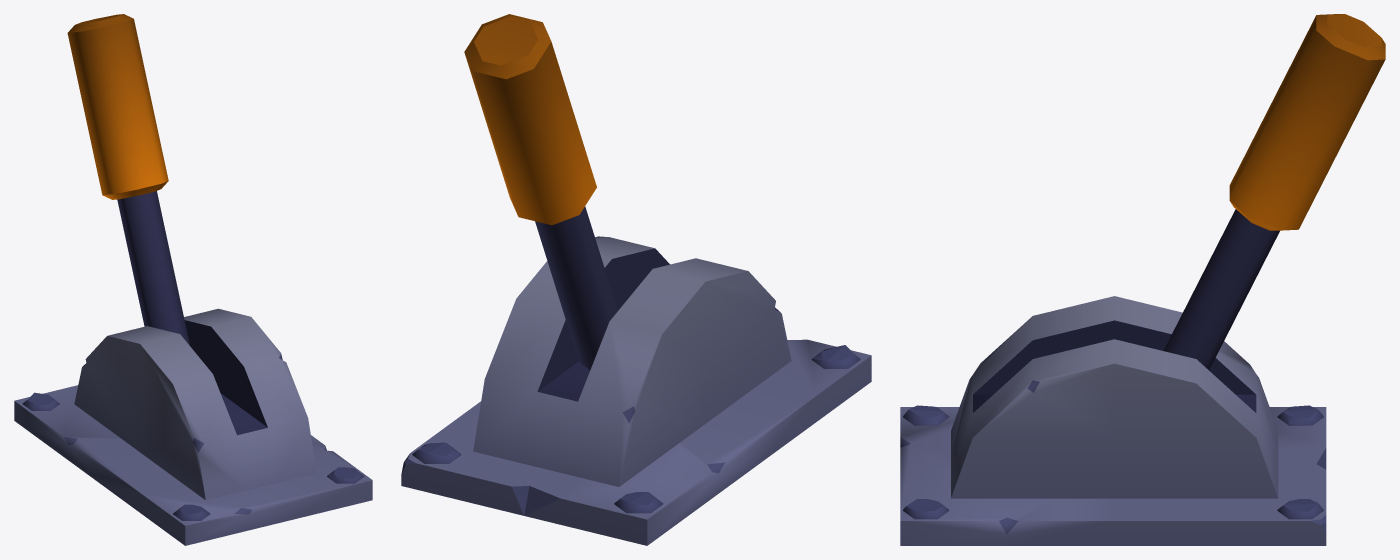
Rendered from Lever_01.glb.
The picture shows the model from 3 angles, left to right: view 1: azimuth 30°, elevation 25°; view 2: azimuth 150°, elevation 25°; view 3: azimuth 270°, elevation 25°; orthographic projection. The views are drawn at different scales.
Visible parts, largest first — view 1: Lever_01, Lever_01_Handle; view 2: Lever_01, Lever_01_Handle; view 3: Lever_01, Lever_01_Handle.
Part boxes in pixels (x1,y1,x2,y2): Lever_01: (14,308,372,545); Lever_01_Handle: (67,14,189,345); Lever_01: (401,236,871,545); Lever_01_Handle: (464,14,617,370); Lever_01: (900,296,1326,545); Lever_01_Handle: (1163,14,1385,369).
Size of the model in its own units: 0.4375 by 0.8445 by 0.7875.
1 material, 1 textured.
